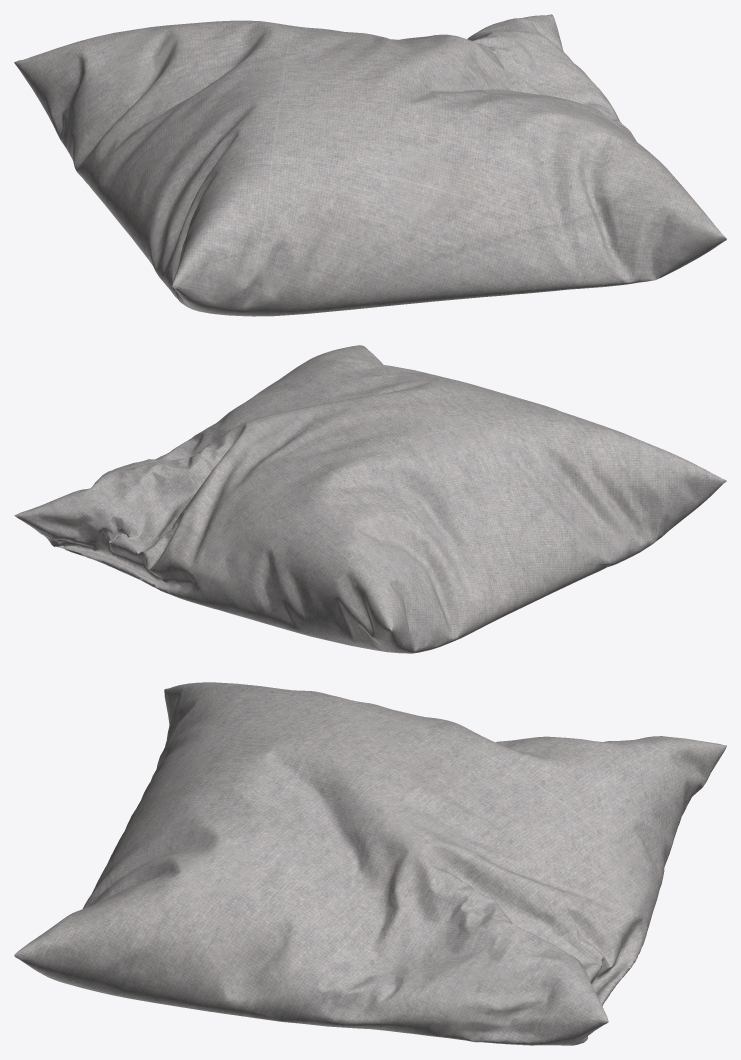
File: pillow.glb
The picture shows the model from 3 angles, top to bottom: view 1: azimuth 30°, elevation 25°; view 2: azimuth 150°, elevation 25°; view 3: azimuth 270°, elevation 25°; orthographic projection. The views are drawn at different scales.
Parts seen in each view (by area): view 1: pillow; view 2: pillow; view 3: pillow.
Part boxes in pixels (<box>): pillow: <box>14,14,726,316</box>; pillow: <box>14,345,726,653</box>; pillow: <box>14,682,726,1045</box>.
Size of the model in its own units: 0.6053 by 0.1441 by 0.6021.
1 material, 1 textured.
